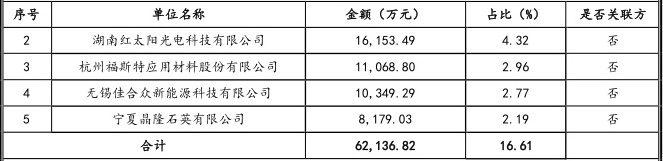column: (79, 2, 277, 161), (346, 1, 418, 161), (580, 3, 646, 161), (488, 1, 539, 161), (14, 2, 39, 159)
row: (2, 7, 663, 20), (1, 139, 663, 151), (2, 35, 663, 47), (2, 61, 663, 73), (3, 87, 663, 99), (1, 113, 662, 124)
